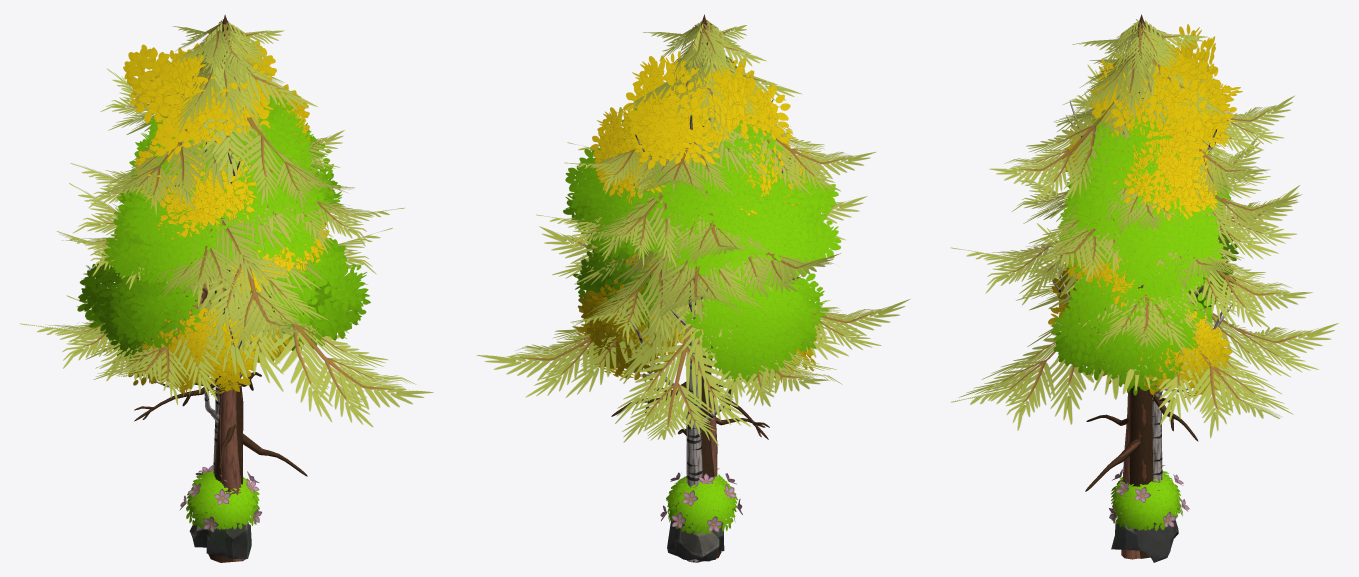
File: nature.glb
3 views of the same model, side by side, from view 1: azimuth 30°, elevation 25°; view 2: azimuth 150°, elevation 25°; view 3: azimuth 270°, elevation 25° (orthographic).
Visible parts, largest first — view 1: pine_nature_PineTree_Leaves, oak_nature_NormalTree_Leaves, birch_nature_BirchTree_Leaves, bush_nature_Bush_Leaves, pine_nature_PineTree_Bark, oak_nature_NormalTree_Bark, rock_nature_Rock, bush_nature_Flowers, birch_nature_BirchTree_Bark; view 2: pine_nature_PineTree_Leaves, oak_nature_NormalTree_Leaves, birch_nature_BirchTree_Leaves, bush_nature_Bush_Leaves, birch_nature_BirchTree_Bark, rock_nature_Rock, pine_nature_PineTree_Bark, bush_nature_Flowers; view 3: pine_nature_PineTree_Leaves, oak_nature_NormalTree_Leaves, birch_nature_BirchTree_Leaves, pine_nature_PineTree_Bark, bush_nature_Bush_Leaves, rock_nature_Rock, birch_nature_BirchTree_Bark, bush_nature_Flowers, oak_nature_NormalTree_Bark.
Part boxes in pixels (x1=…): pine_nature_PineTree_Leaves: x1=20, y1=19, x2=433, y2=427; oak_nature_NormalTree_Leaves: x1=77, y1=95, x2=370, y2=362; birch_nature_BirchTree_Leaves: x1=123, y1=36, x2=329, y2=396; bush_nature_Bush_Leaves: x1=186, y1=470, x2=259, y2=530; pine_nature_PineTree_Bark: x1=134, y1=14, x2=307, y2=562; oak_nature_NormalTree_Bark: x1=128, y1=270, x2=274, y2=561; rock_nature_Rock: x1=189, y1=507, x2=251, y2=558; bush_nature_Flowers: x1=179, y1=465, x2=261, y2=532; birch_nature_BirchTree_Bark: x1=143, y1=141, x2=241, y2=473; pine_nature_PineTree_Leaves: x1=476, y1=20, x2=910, y2=445; oak_nature_NormalTree_Leaves: x1=563, y1=107, x2=841, y2=381; birch_nature_BirchTree_Leaves: x1=574, y1=51, x2=822, y2=382; bush_nature_Bush_Leaves: x1=666, y1=474, x2=737, y2=534; birch_nature_BirchTree_Bark: x1=626, y1=99, x2=797, y2=562; rock_nature_Rock: x1=667, y1=487, x2=724, y2=561; pine_nature_PineTree_Bark: x1=611, y1=14, x2=769, y2=561; bush_nature_Flowers: x1=660, y1=468, x2=742, y2=532; pine_nature_PineTree_Leaves: x1=950, y1=19, x2=1338, y2=437; oak_nature_NormalTree_Leaves: x1=1051, y1=107, x2=1238, y2=395; birch_nature_BirchTree_Leaves: x1=1048, y1=24, x2=1242, y2=397; pine_nature_PineTree_Bark: x1=1085, y1=14, x2=1198, y2=558; bush_nature_Bush_Leaves: x1=1110, y1=471, x2=1182, y2=531; rock_nature_Rock: x1=1111, y1=489, x2=1178, y2=562; birch_nature_BirchTree_Bark: x1=1052, y1=101, x2=1232, y2=482; bush_nature_Flowers: x1=1109, y1=465, x2=1189, y2=527; oak_nature_NormalTree_Bark: x1=1104, y1=266, x2=1147, y2=559.
Bounding box in the file's own units: 4.03 × 6.1 × 4.11.
9 materials, 9 textured.
